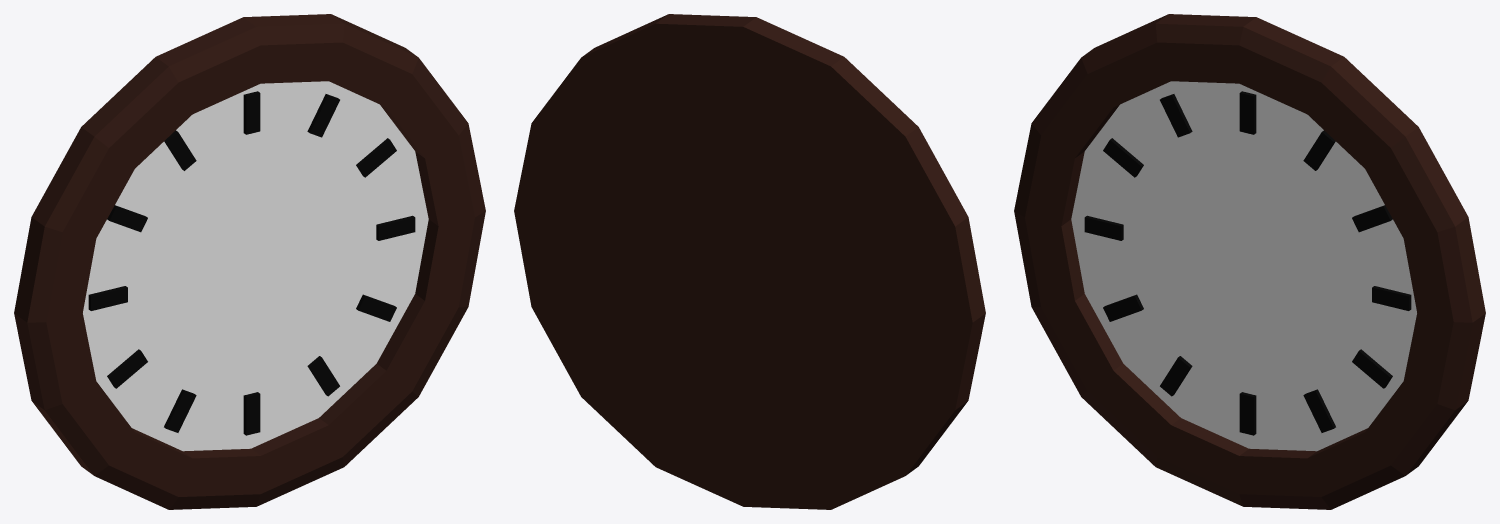
Rendered from base reloj.fbx.
3 views of the same model, side by side, from view 1: azimuth 30°, elevation 25°; view 2: azimuth 150°, elevation 25°; view 3: azimuth 330°, elevation 25° (orthographic).
Visible parts, largest first — view 1: Analog_clock_Circle_001; view 2: Analog_clock_Circle_001; view 3: Analog_clock_Circle_001.
Boxes of the visible parts, x1,y1,x2,y2 form: Analog_clock_Circle_001: (14, 14, 485, 509); Analog_clock_Circle_001: (514, 14, 985, 509); Analog_clock_Circle_001: (1014, 14, 1485, 509).
Bounding box in the file's own units: 10 × 10 × 0.654.
